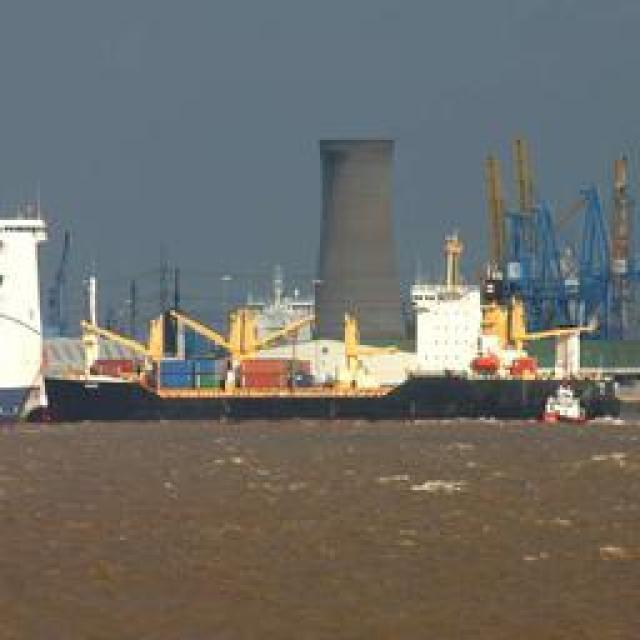ship2: (41, 229, 622, 422)
